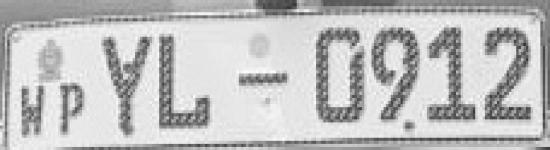-: (234, 66, 292, 92)
0: (310, 21, 368, 128)
1: (423, 17, 482, 132)
2: (484, 20, 538, 128)
9: (368, 24, 422, 128)
L: (156, 30, 214, 136)
P: (55, 79, 88, 139)
W: (15, 81, 53, 146)
Y: (95, 30, 154, 138)
